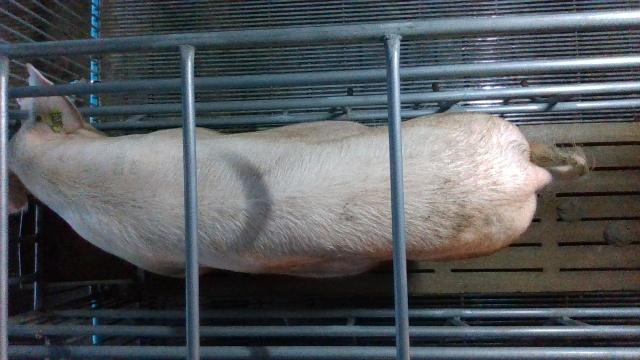sow-stand: (7, 63, 586, 279)
